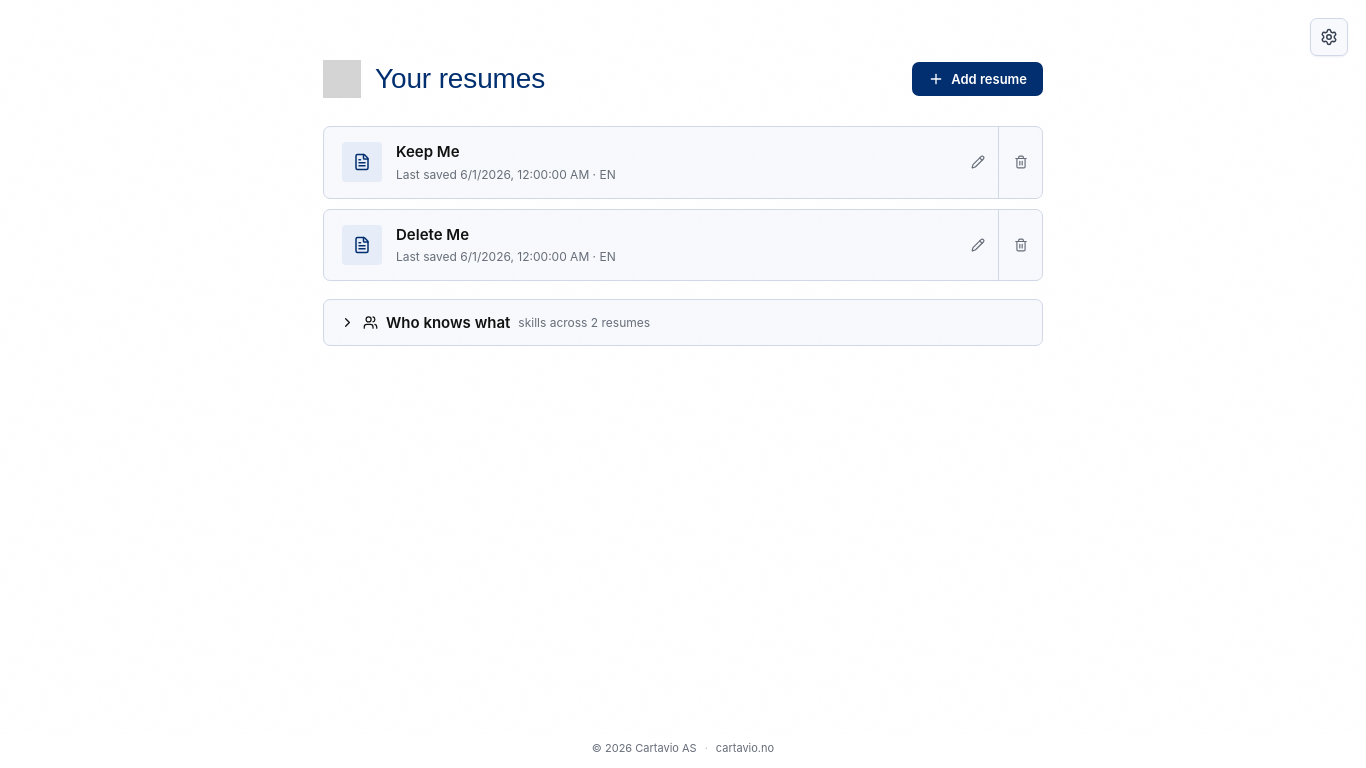
Scenario: <ResumeList> › deletes a resume after confirmation and removes its card
Expected: the text "Delete Me" is shown, [396,224,469,244]
Click the button named "delete delete me" at (1020, 245), box [998,210,1042,280]
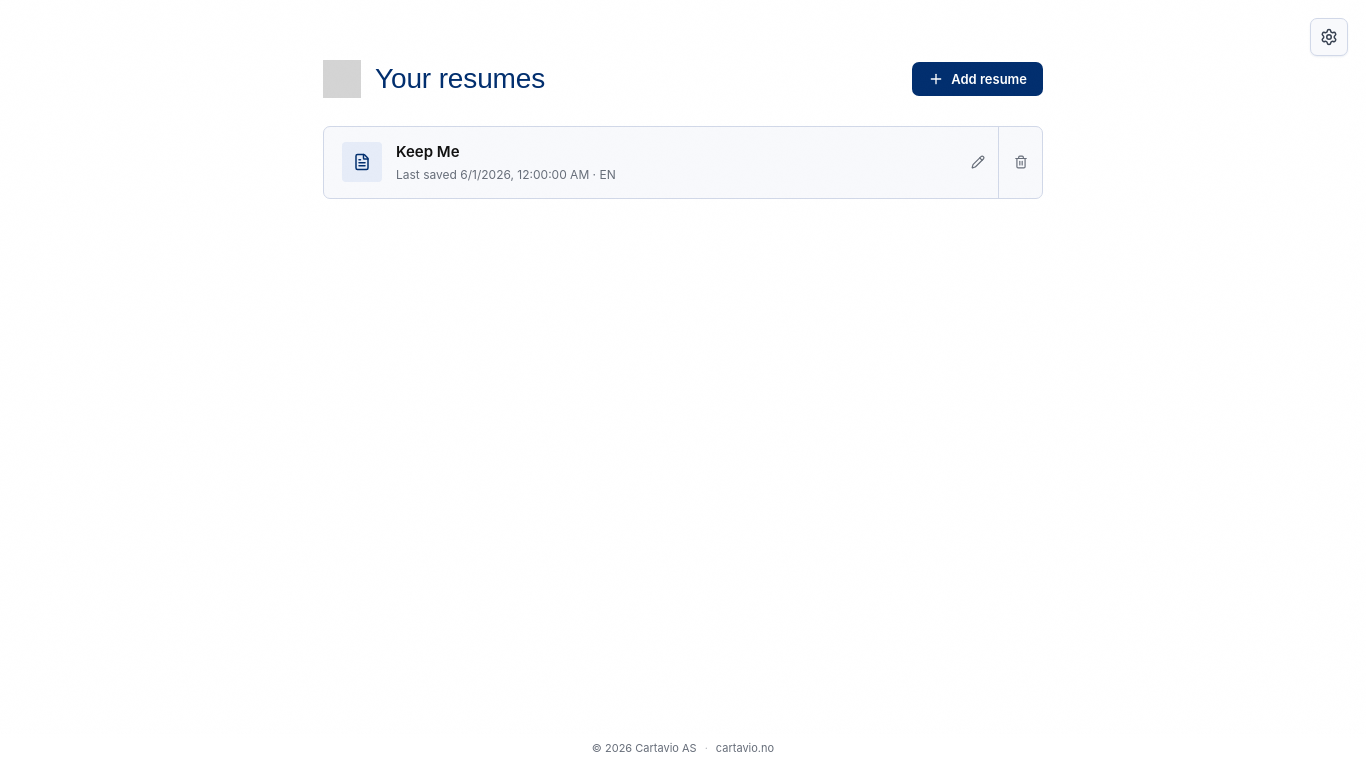
Expected: the text "Keep Me" is shown, [396,142,460,161]
Expected: the link "Delete Me" is gone
